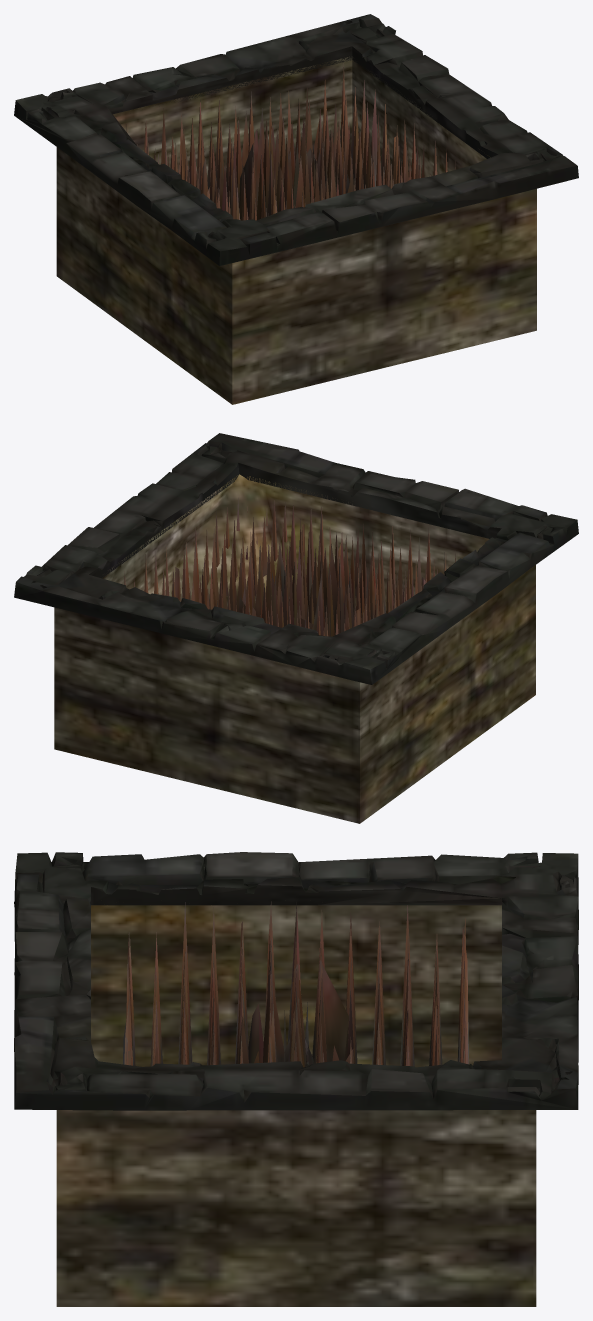
File: obj_pit.glb
3 views of the same model, one above another, from view 1: azimuth 30°, elevation 25°; view 2: azimuth 150°, elevation 25°; view 3: azimuth 270°, elevation 25° (orthographic). The views are drawn at different scales.
Parts seen in each view (by area): view 1: Cube, Mesh_0.001, Mesh1.0; view 2: Cube, Mesh_0.001, Mesh1.0; view 3: Cube, Mesh_0.001, Mesh1.0.
Part boxes in pixels (<box>): Cube: <box>56,56,536,404</box>; Mesh_0.001: <box>14,14,578,265</box>; Mesh1.0: <box>126,63,455,220</box>; Cube: <box>54,474,535,823</box>; Mesh_0.001: <box>14,433,578,684</box>; Mesh1.0: <box>124,498,455,636</box>; Cube: <box>56,905,536,1306</box>; Mesh_0.001: <box>14,852,578,1110</box>; Mesh1.0: <box>123,901,468,1067</box>.
Size of the model in its own units: 1.99 by 0.9803 by 1.98.
3 materials, 3 textured.
